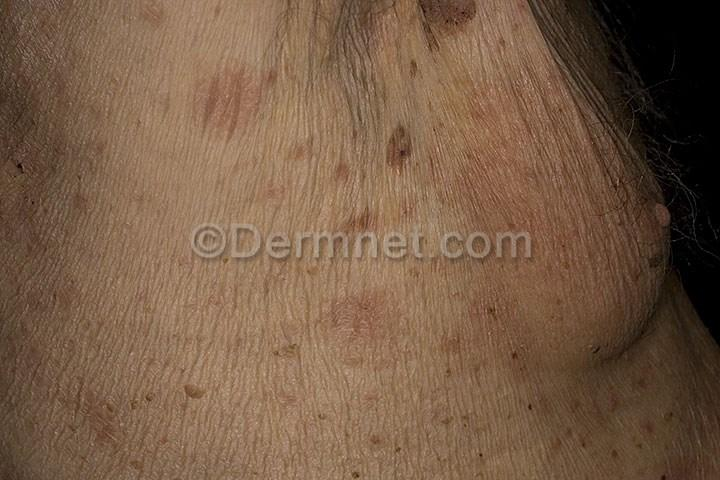Eczema: (179, 46, 275, 151), (317, 280, 414, 360), (357, 107, 440, 183), (130, 0, 183, 33)
